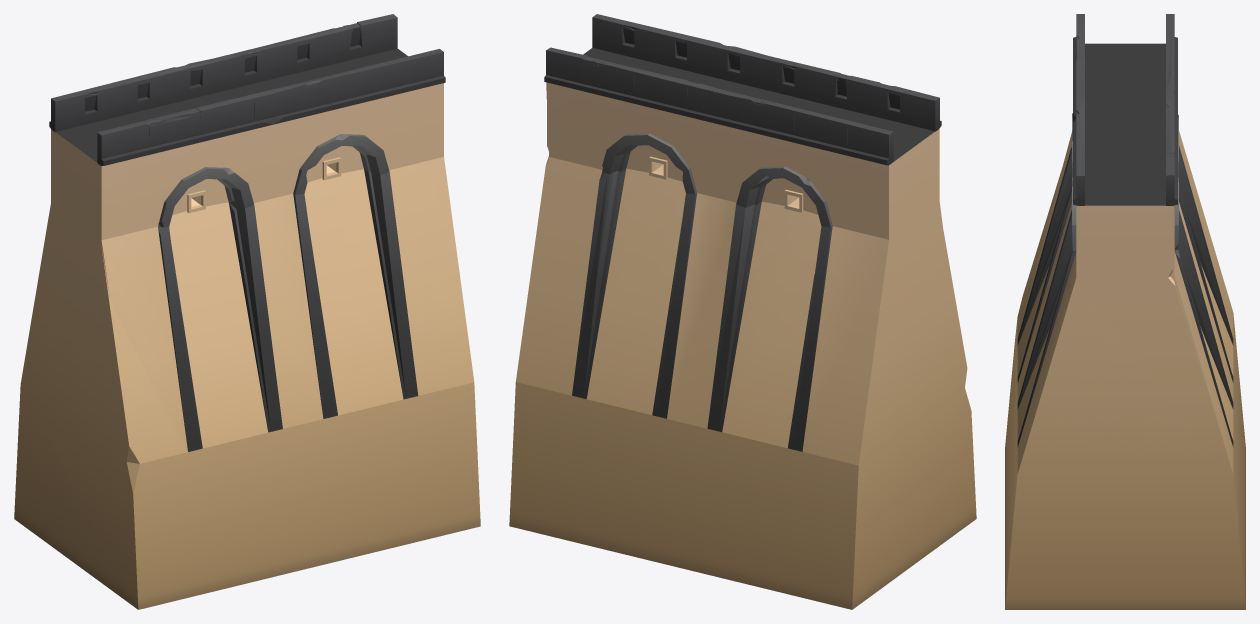
The model's file is Fort Wall 01.fbx.
3 views of the same model, side by side, from view 1: azimuth 30°, elevation 25°; view 2: azimuth 150°, elevation 25°; view 3: azimuth 270°, elevation 25° (orthographic). The views are drawn at different scales.
Parts seen in each view (by area): view 1: Fort Wall 01 low, Fort Wall 01 high, Fort Wall 01; view 2: Fort Wall 01 high, Fort Wall 01 low, Fort Wall 01; view 3: Fort Wall 01 high, Fort Wall 01 low, Fort Wall 01.
Boxes of the visible parts, x1=… form: Fort Wall 01 low: x1=14, y1=23, x2=479, y2=608; Fort Wall 01 high: x1=14, y1=14, x2=480, y2=609; Fort Wall 01: x1=51, y1=14, x2=443, y2=448; Fort Wall 01 high: x1=509, y1=14, x2=976, y2=609; Fort Wall 01 low: x1=510, y1=15, x2=975, y2=608; Fort Wall 01: x1=546, y1=17, x2=939, y2=448; Fort Wall 01 high: x1=1005, y1=14, x2=1245, y2=609; Fort Wall 01 low: x1=1005, y1=14, x2=1245, y2=605; Fort Wall 01: x1=1018, y1=14, x2=1233, y2=440.
Bounding box in the file's own units: 14.31 × 17.94 × 8.99.
Materials: 1 (1 with a texture image).
